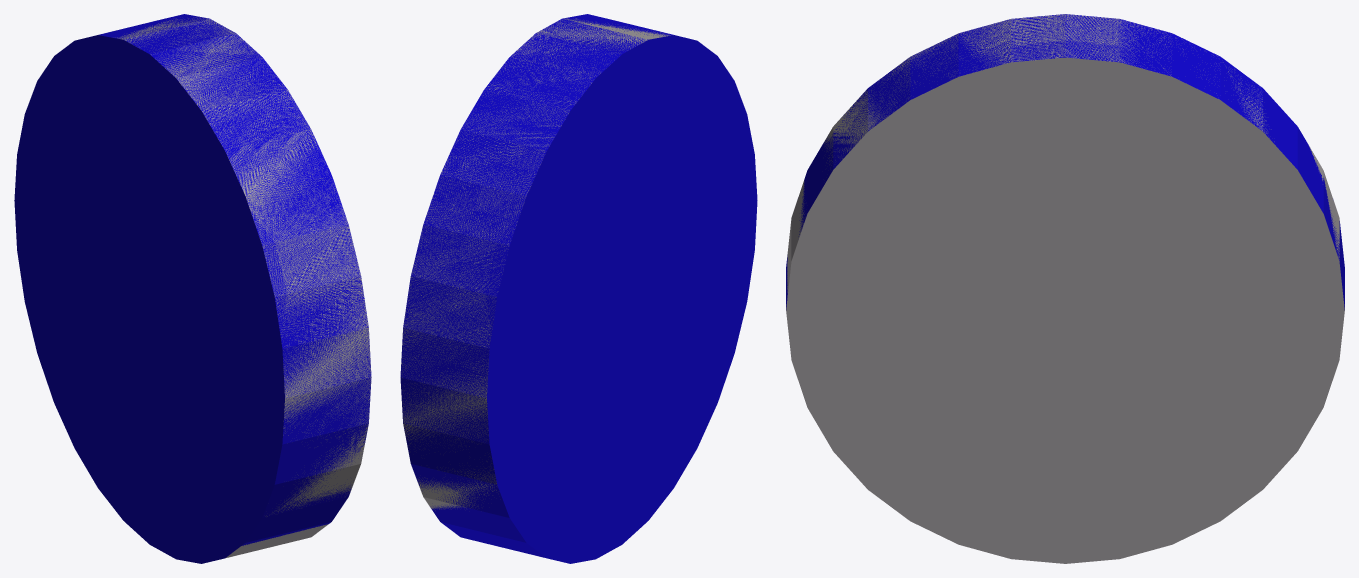
The model's file is BotonTest2.fbx.
The picture shows the model from 3 angles, left to right: view 1: azimuth 30°, elevation 25°; view 2: azimuth 150°, elevation 25°; view 3: azimuth 270°, elevation 25°; orthographic projection. The views are drawn at different scales.
Parts seen in each view (by area): view 1: Cylinder.001; view 2: Cylinder.001; view 3: Cylinder.001.
Boxes of the visible parts, x1,y1,x2,y2 form: Cylinder.001: [14, 14, 371, 563]; Cylinder.001: [400, 14, 757, 563]; Cylinder.001: [786, 14, 1344, 563].
Bounding box in the file's own units: 1.81 × 9.8 × 9.8.
